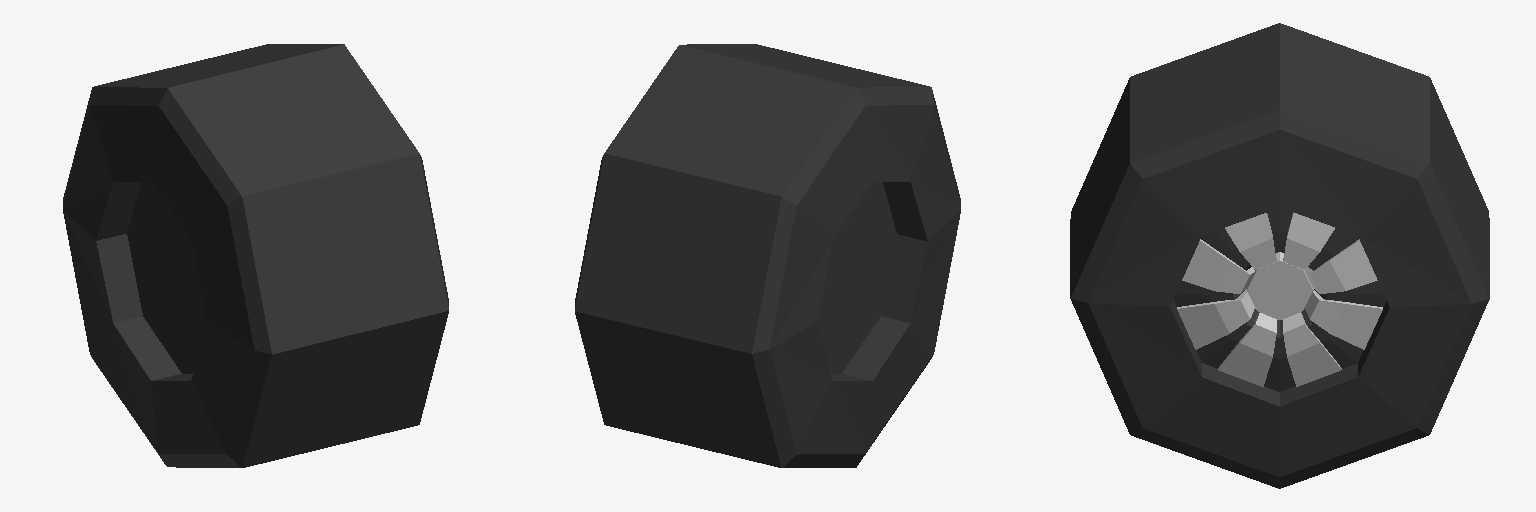
The model's file is Wheel.obj.
3 views of the same model, side by side, from view 1: azimuth 30°, elevation 25°; view 2: azimuth 150°, elevation 25°; view 3: azimuth 270°, elevation 25° (orthographic).
Visible parts, largest first — view 1: Wheel.obj; view 2: Wheel.obj; view 3: Wheel.obj.
Part boxes in pixels (bbox=[...]): Wheel.obj: bbox=[63, 44, 448, 467]; Wheel.obj: bbox=[575, 44, 960, 467]; Wheel.obj: bbox=[1070, 23, 1489, 488].
Size of the model in its own units: 0.7618 by 1.32 by 1.32.